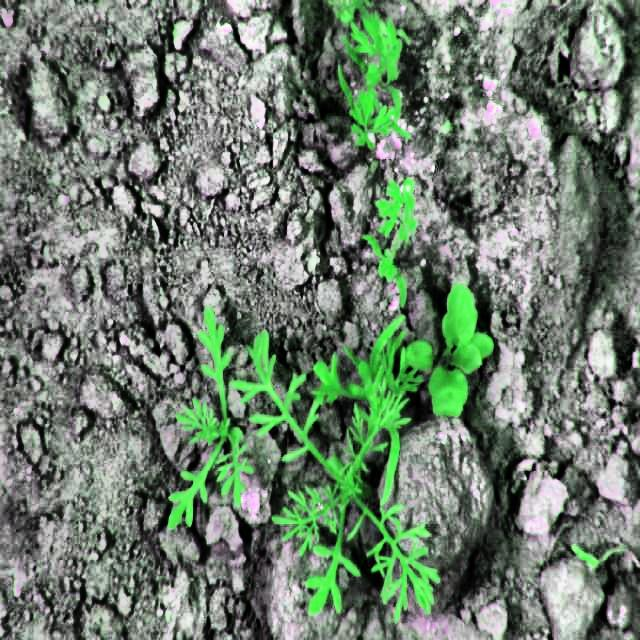Weeds: (400, 278, 497, 426)
undefined: (163, 302, 441, 626), (330, 0, 422, 283)
